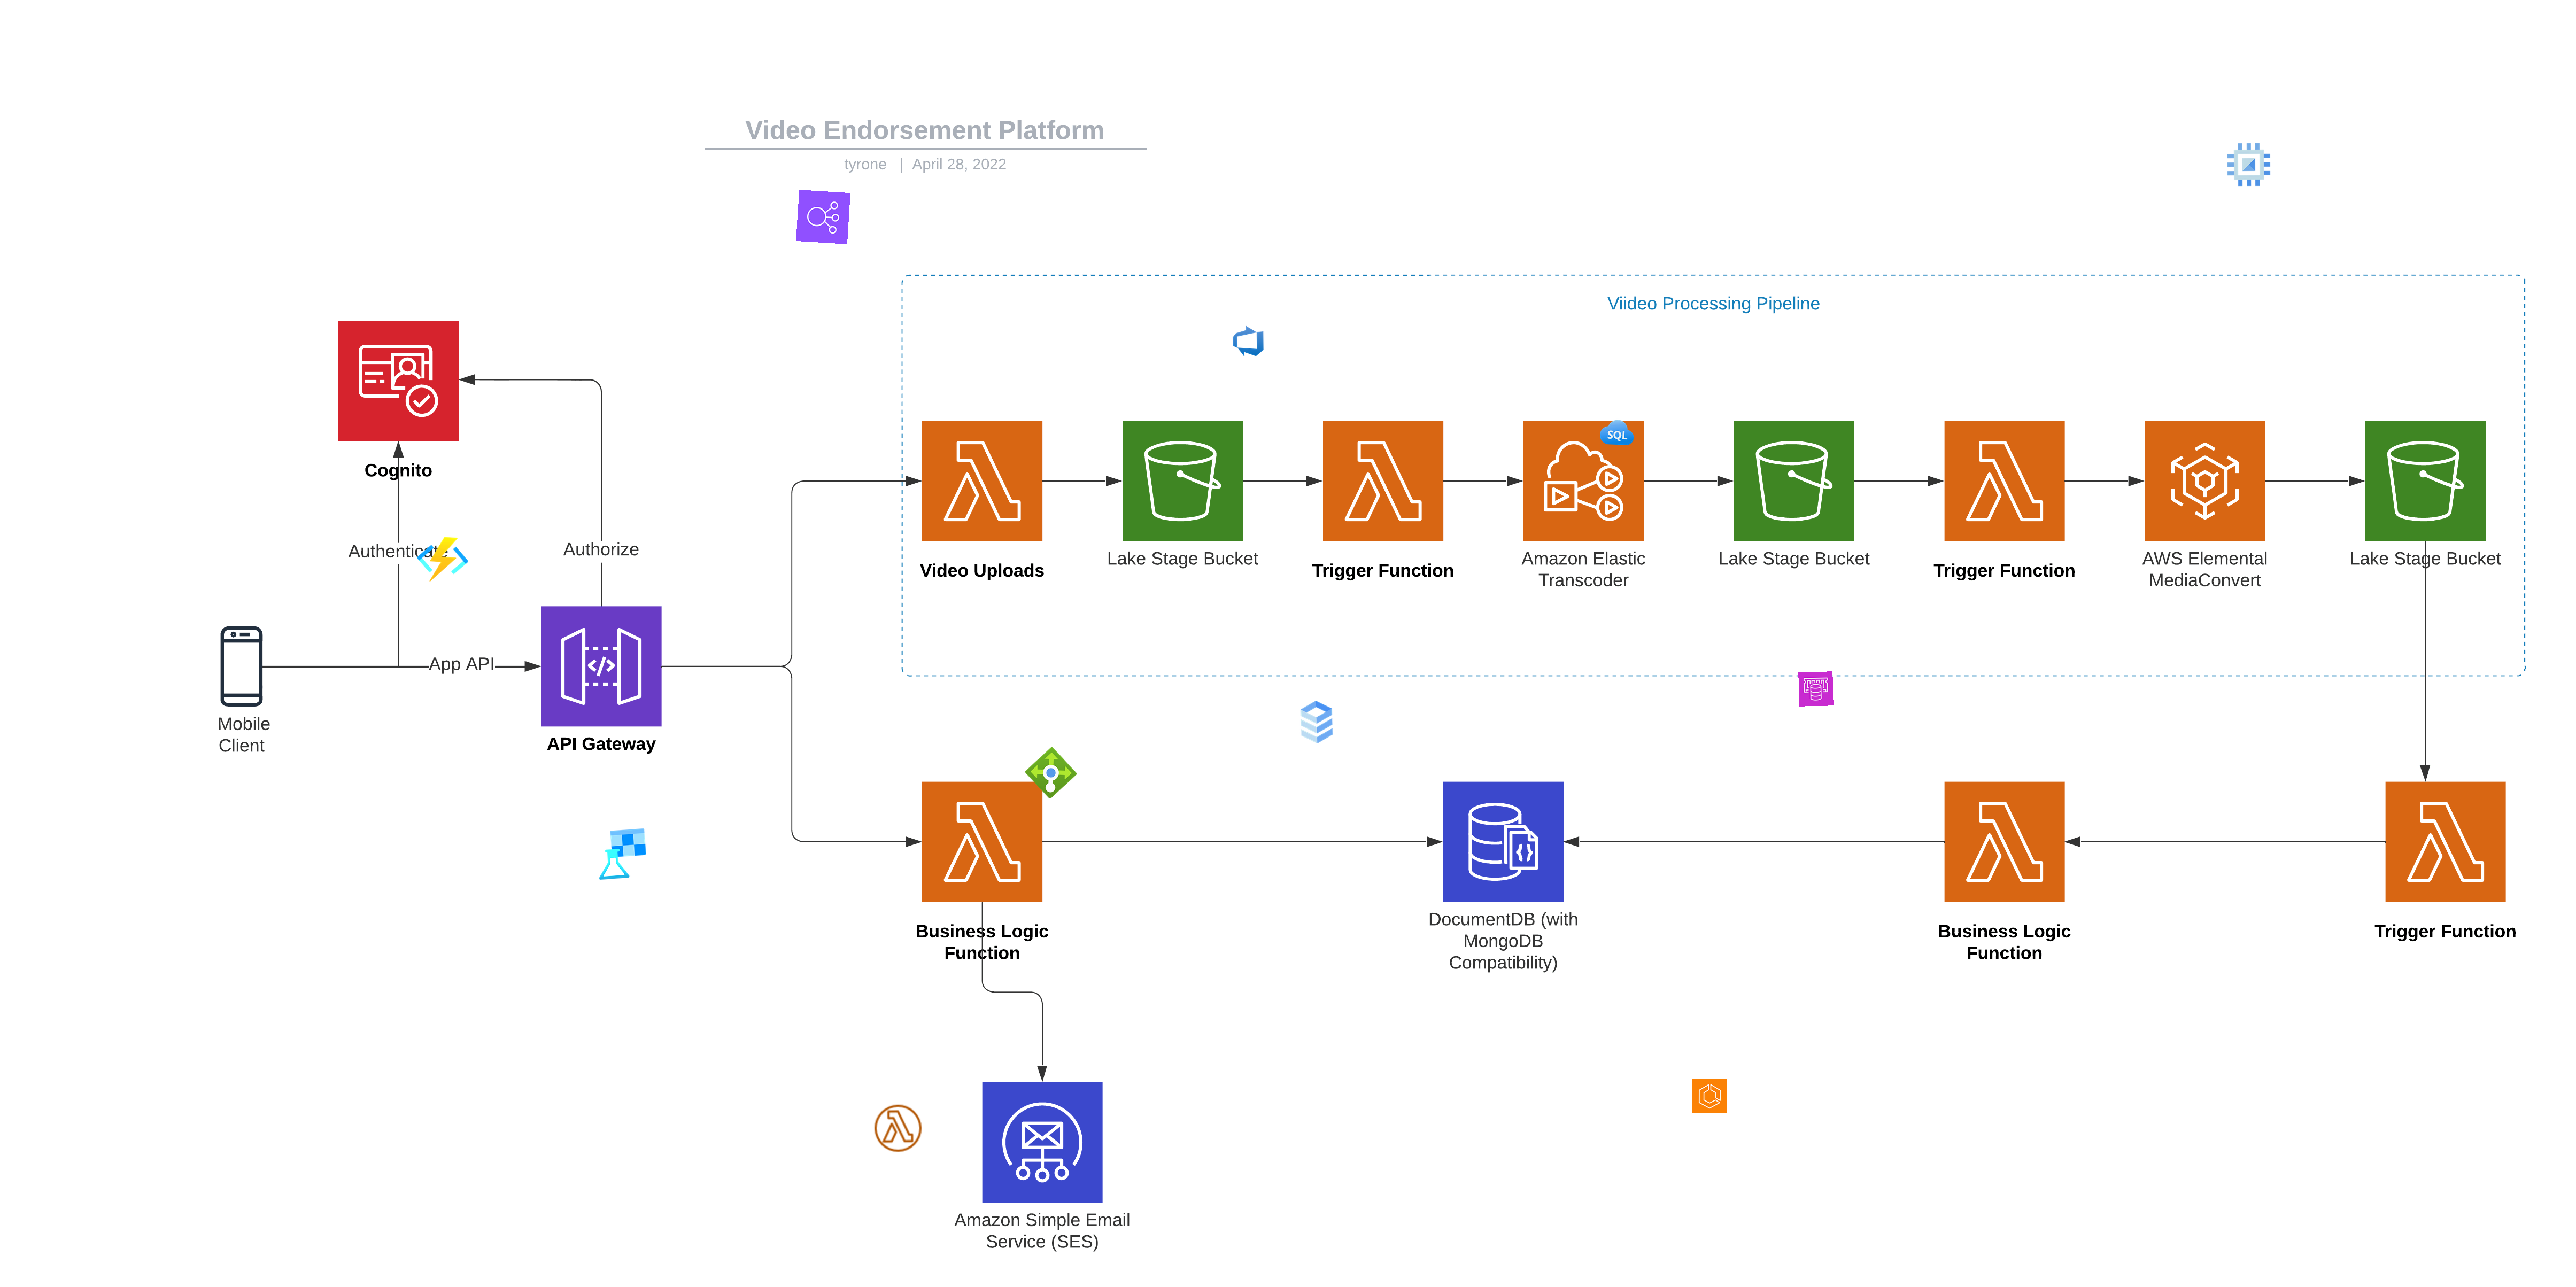aws_amazon_elastic_container_service: (1692, 1079, 1727, 1115)
aws_amazon_elasticache: (1799, 671, 1833, 706)
aws_elastic_load_balancing: (795, 190, 851, 245)
aws_lambda_lambda_function: (872, 1102, 925, 1154)
azure_devops: (1231, 323, 1265, 358)
azure_function_apps: (414, 532, 470, 588)
azure_load_balancers: (1024, 747, 1078, 799)
azure_machine_learning_studio_workspaces: (593, 826, 649, 882)
azure_sql: (1599, 415, 1635, 451)
gcp_cloud_sql: (1290, 696, 1344, 749)
gcp_compute_engine: (2223, 138, 2275, 190)
